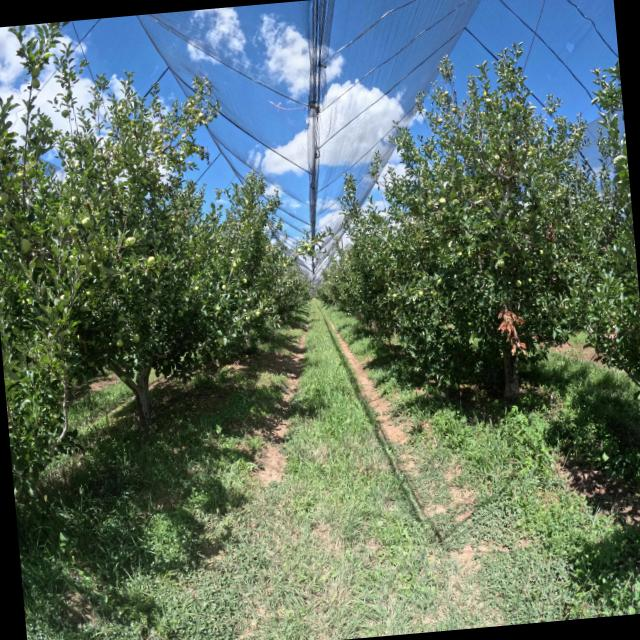-FireBlight-: (496, 307, 528, 358)
